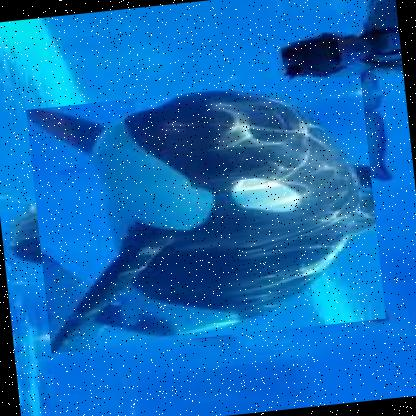killer_whale: (26, 73, 387, 353)
